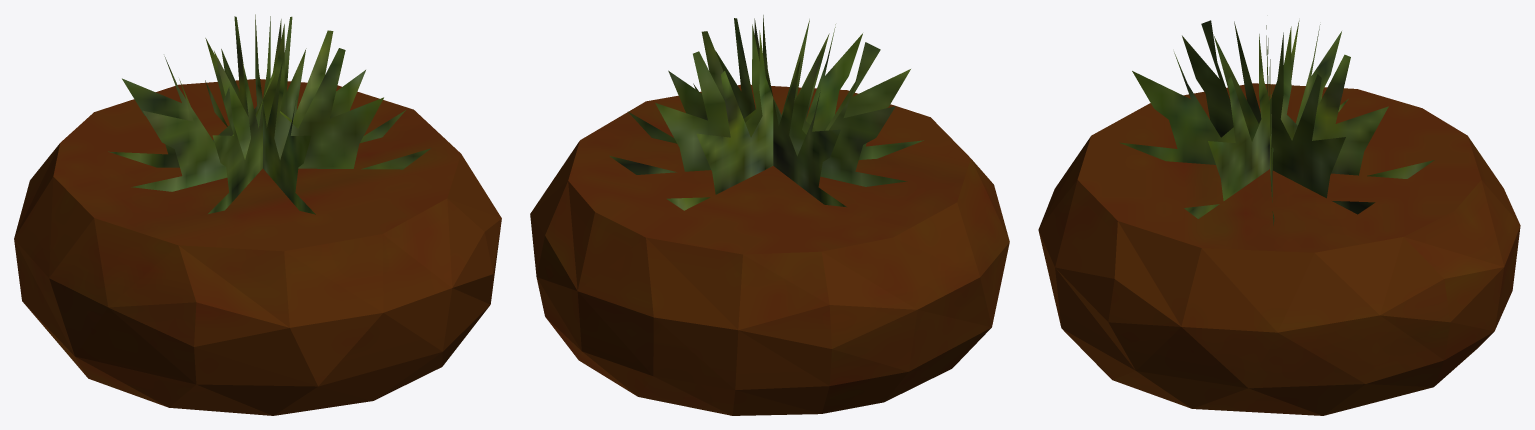
Rendered from plant2.dae.
The picture shows the model from 3 angles, left to right: view 1: azimuth 30°, elevation 25°; view 2: azimuth 150°, elevation 25°; view 3: azimuth 270°, elevation 25°; orthographic projection.
Visible parts, largest first — view 1: node; view 2: node; view 3: node.
Part boxes in pixels (<box>): node: <box>14,14,501,415</box>; node: <box>530,15,1009,415</box>; node: <box>1038,20,1520,415</box>.
Size of the model in its own units: 0.278 by 0.1947 by 0.2769.
Materials: 1 (1 with a texture image).
